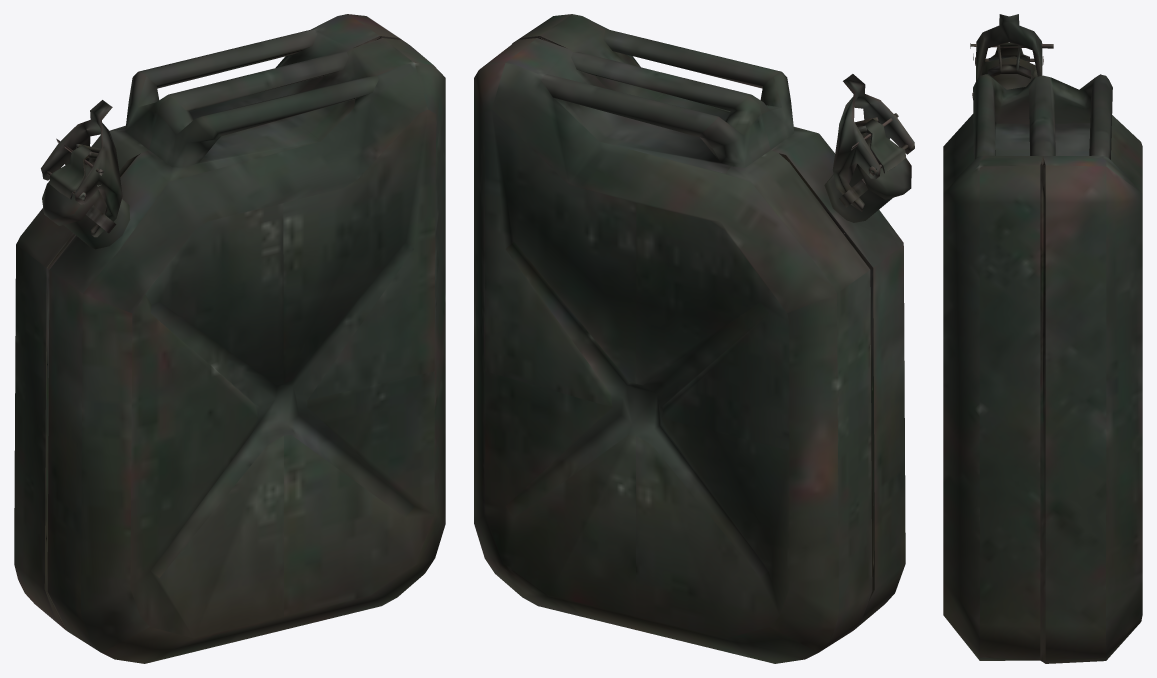
The model's file is metal_jerrycan_green.glb.
The picture shows the model from 3 angles, left to right: view 1: azimuth 30°, elevation 25°; view 2: azimuth 150°, elevation 25°; view 3: azimuth 270°, elevation 25°; orthographic projection. The views are drawn at different scales.
Parts seen in each view (by area): view 1: metal_jerrycan_green_pin; view 2: metal_jerrycan_green_pin; view 3: metal_jerrycan_green_pin.
Part boxes in pixels (x1,y1,x2,y2): metal_jerrycan_green_pin: (14, 14, 445, 663); metal_jerrycan_green_pin: (474, 14, 914, 663); metal_jerrycan_green_pin: (943, 14, 1142, 663).
Size of the model in its own units: 0.36 by 0.4982 by 0.1709.
1 material, 1 textured.
